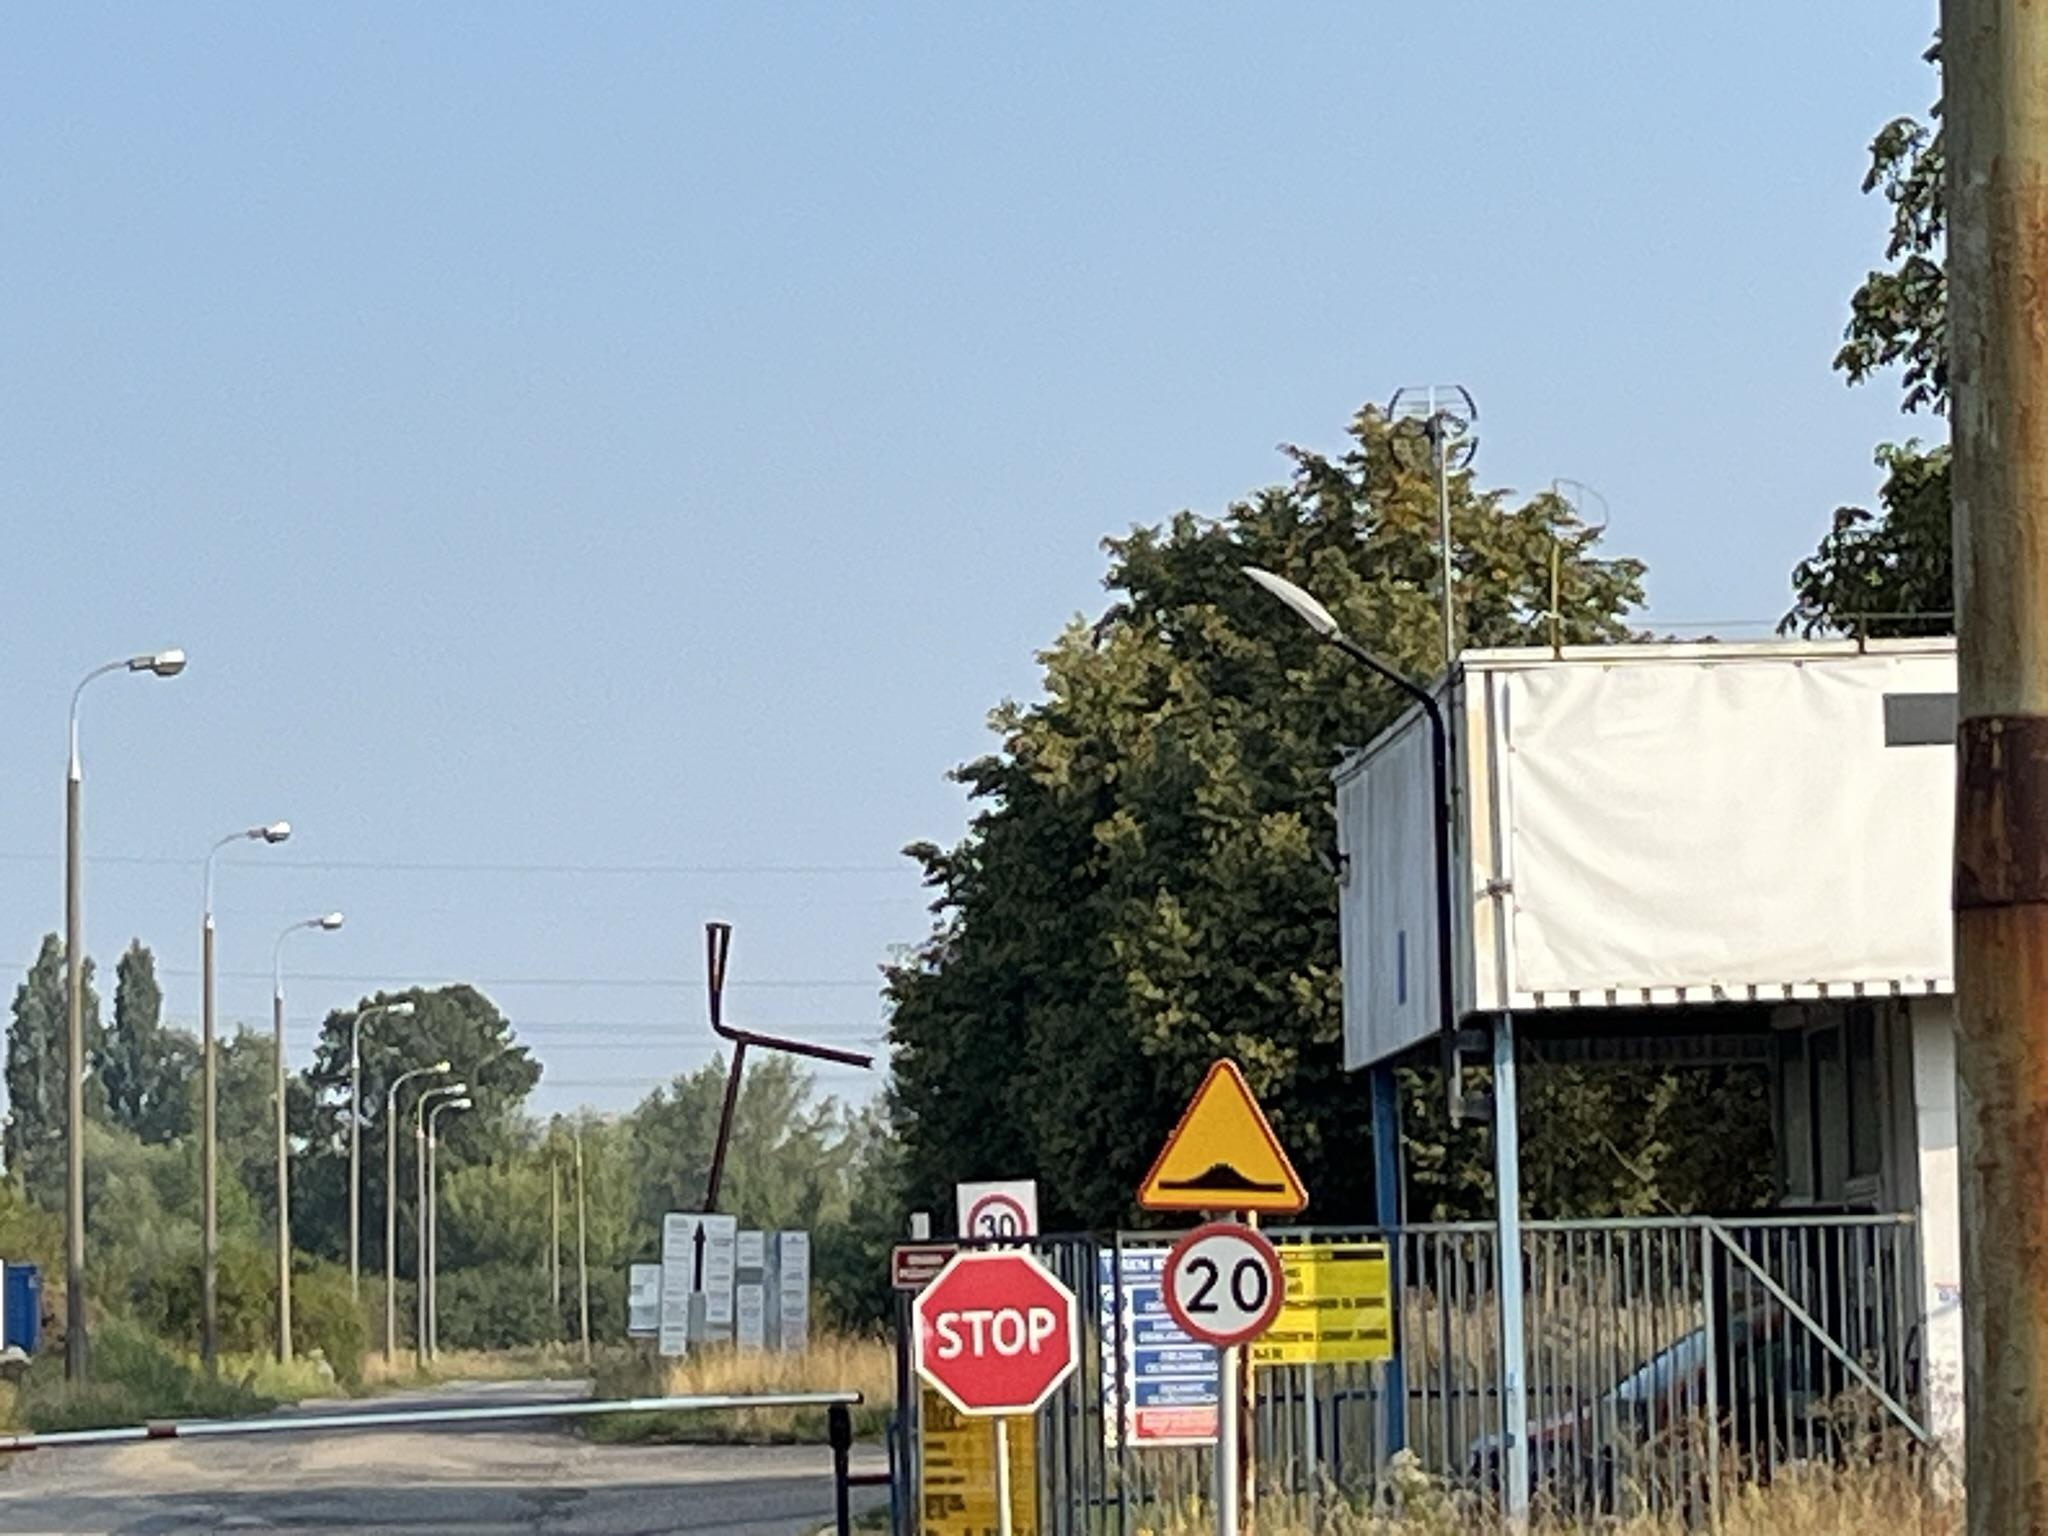prohibitory: (911, 1252, 1079, 1417), (1163, 1221, 1285, 1349), (968, 1194, 1027, 1238)
warning: (1134, 1057, 1309, 1212)
